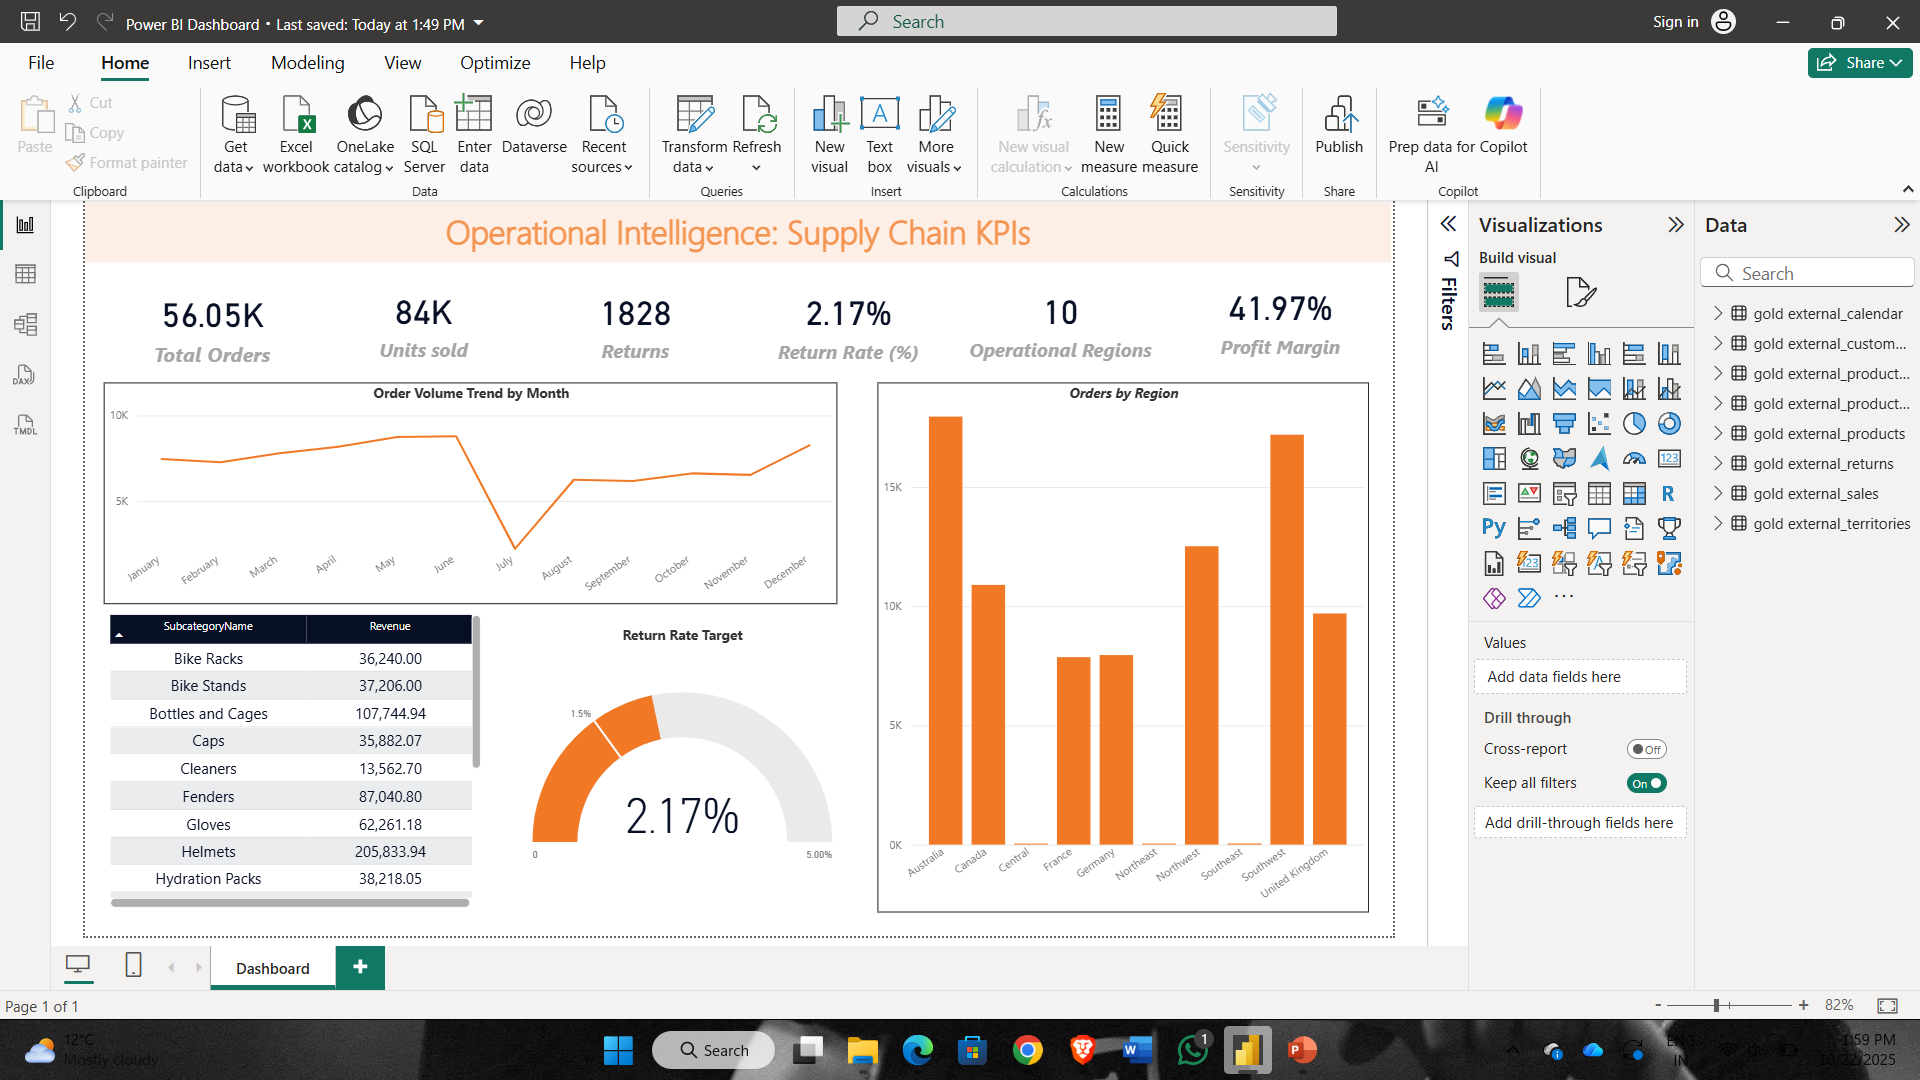

The dashboard page shown, as its layout file describes it:
{"tool":"powerbi","page":{"name":"Page 1","canvas":[1280,720],"ordinal":0},"visuals":[{"type":"card","title":"Total Orders","fields":{"Values":["CountNonNull(gold external_sales.OrderNumber)"]},"box":[18.3,63.6,212.8,119.8],"z":0},{"type":"card","fields":{"Values":["Sum(gold external_sales.OrderQuantity)"]},"box":[231.1,61.1,200.5,117.4],"z":1000},{"type":"card","fields":{"Values":["Sum(gold external_returns.ReturnQuantity)"]},"box":[443.9,62.4,189.5,116.2],"z":2000},{"type":"card","fields":{"Values":["gold external_calendar.Sum of ReturnQuantity divided by Sum of OrderQuantity"]},"box":[651.8,68.5,190.8,105.2],"z":3000},{"type":"lineChart","title":"Order Volume Trend by Month","fields":{"Category":["gold external_sales.OrderDate.Variation.Date Hierarchy.Month"],"Y":["Sum(gold external_sales.OrderQuantity)"]},"box":[18.3,178.5,717.8,216.4],"z":4000},{"type":"card","fields":{"Values":["Count(gold external_territories.Region)"]},"box":[857.2,67.3,194.4,105.2],"z":5000},{"type":"tableEx","title":"Most Ordered Items","fields":{"Values":["gold external_product_subcategories.SubcategoryName","gold external_calendar.Revenue"]},"box":[18.3,401.1,374.2,295.9],"z":6000},{"type":"card","fields":{"Values":["gold external_calendar.Gross Profit Margin (%)"]},"box":[1061.4,58.7,216.4,114.9],"z":7000},{"type":"columnChart","title":"Orders by Region","fields":{"Category":["gold external_territories.Region"],"Y":["Sum(gold external_sales.OrderQuantity)"]},"box":[775.3,178.5,480.6,518.5],"z":8000},{"type":"gauge","title":"Return Rate Target","fields":{"Y":["gold external_calendar.Sum of ReturnQuantity divided by Sum of OrderQuantity"],"MinValue":["gold external_calendar.Minimum return value"],"MaxValue":["gold external_calendar.Maximum Return Value"],"TargetValue":["gold external_calendar.Target Return Value"]},"box":[432.9,415.8,303.3,281.3],"z":9000},{"type":"textbox","box":[0,3.7,1277.9,57.5],"z":10000}]}

Visuals, with their boxes on the page's 1280x720 design canvas (x1, y1, x2, y2). These are canvas units, not pixel positions in the 1920x1080 screenshot, which may show the page scaled, cropped or inside an application window:
"Total Orders" card: locate(18, 64, 231, 183)
card - Sum(gold external_sales.OrderQuantity): locate(231, 61, 432, 178)
card - Sum(gold external_returns.ReturnQuantity): locate(444, 62, 633, 179)
card - gold external_calendar.Sum of ReturnQuantity divided by Sum of OrderQuantity: locate(652, 68, 843, 174)
"Order Volume Trend by Month" lineChart: locate(18, 178, 736, 395)
card - Count(gold external_territories.Region): locate(857, 67, 1052, 172)
"Most Ordered Items" tableEx: locate(18, 401, 392, 697)
card - gold external_calendar.Gross Profit Margin (%): locate(1061, 59, 1278, 174)
"Orders by Region" columnChart: locate(775, 178, 1256, 697)
"Return Rate Target" gauge: locate(433, 416, 736, 697)
textbox: locate(0, 4, 1278, 61)
